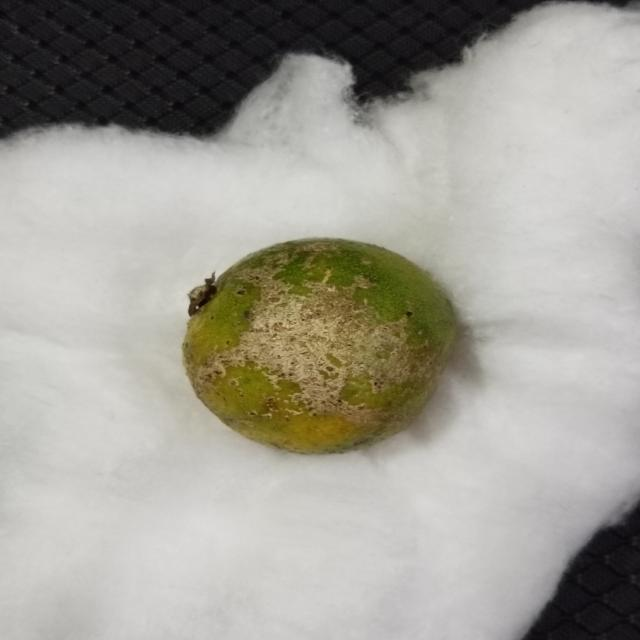thrips: (176, 238, 461, 460)
